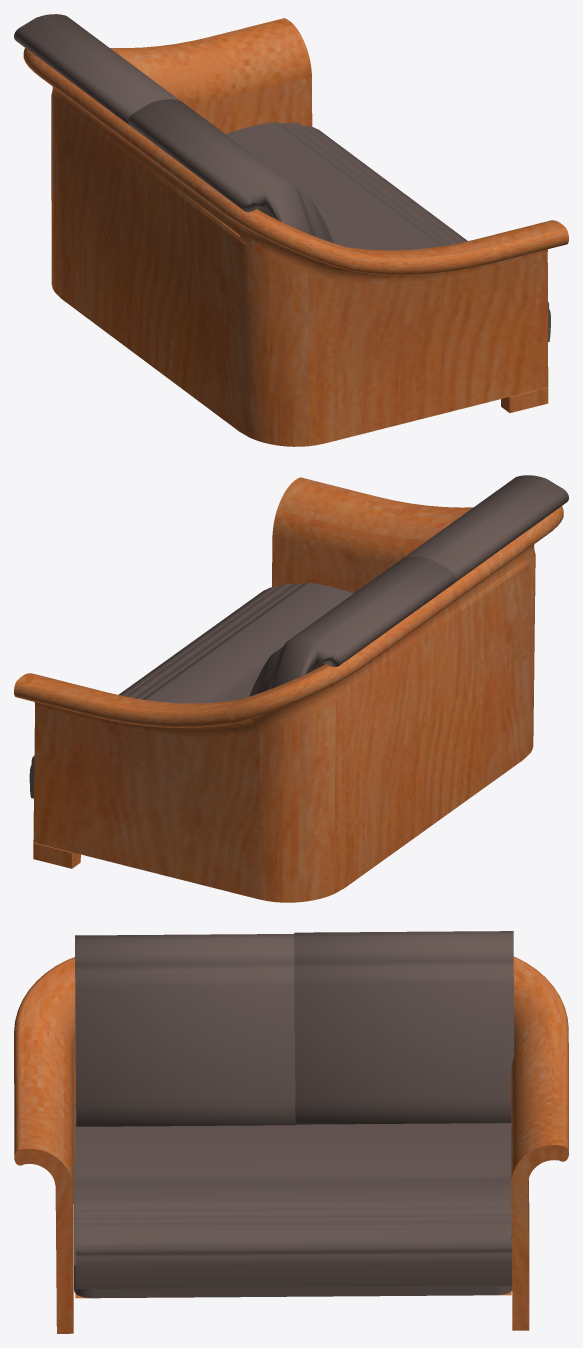
3 renders of one model, top to bottom at view 1: azimuth 30°, elevation 25°; view 2: azimuth 150°, elevation 25°; view 3: azimuth 270°, elevation 25°, orthographic. The views are drawn at different scales.
Visible parts, largest first — view 1: Mesh3_Group3_canap__manhattan1_Model.001; view 2: Mesh3_Group3_canap__manhattan1_Model.001; view 3: Mesh3_Group3_canap__manhattan1_Model.001.
Boxes of the visible parts, x1,y1,x2,y2 form: Mesh3_Group3_canap__manhattan1_Model.001: [14, 14, 568, 446]; Mesh3_Group3_canap__manhattan1_Model.001: [14, 475, 568, 902]; Mesh3_Group3_canap__manhattan1_Model.001: [14, 931, 568, 1333].
Bounding box in the file's own units: 0.626 × 0.5402 × 1.
